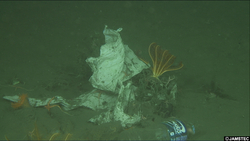plastic bag: (2, 25, 153, 127)
